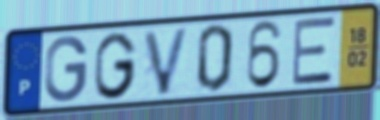0: (194, 21, 236, 95)
6: (245, 18, 284, 92)
E: (290, 14, 337, 88)
G: (42, 33, 91, 105), (93, 30, 139, 102)
V: (141, 25, 193, 98)
